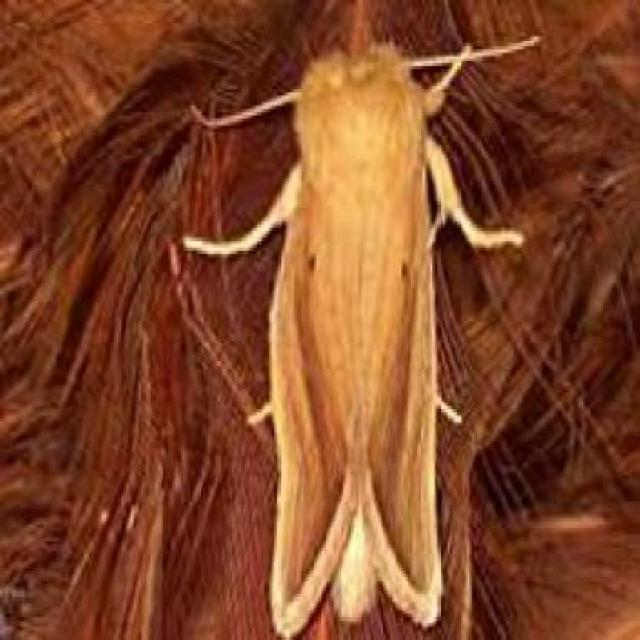stem-borer: (257, 35, 454, 640)
